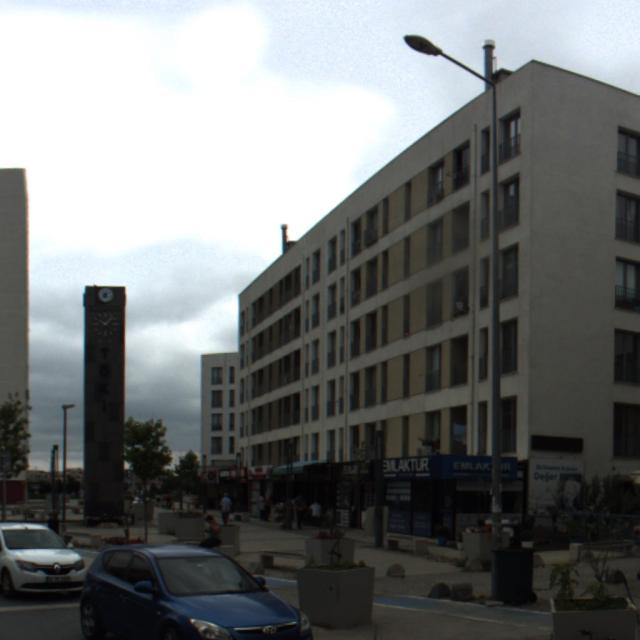SignStore: (382, 455, 517, 479), (333, 460, 375, 482), (247, 466, 271, 481), (200, 470, 217, 483), (230, 468, 247, 480), (219, 469, 231, 480)
